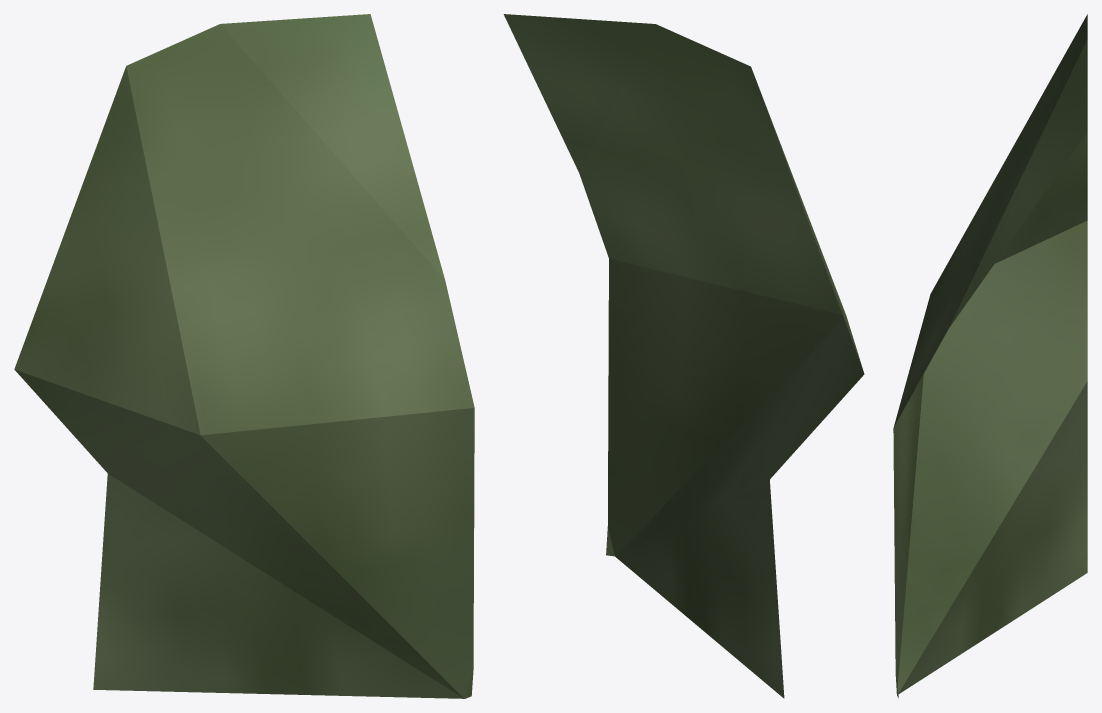
3 renders of one model, left to right at view 1: azimuth 30°, elevation 25°; view 2: azimuth 150°, elevation 25°; view 3: azimuth 270°, elevation 25°, orthographic. The views are drawn at different scales.
Size of the model in its own units: 0.1239 by 0.2111 by 0.0628.
Materials: 1 (1 with a texture image).
